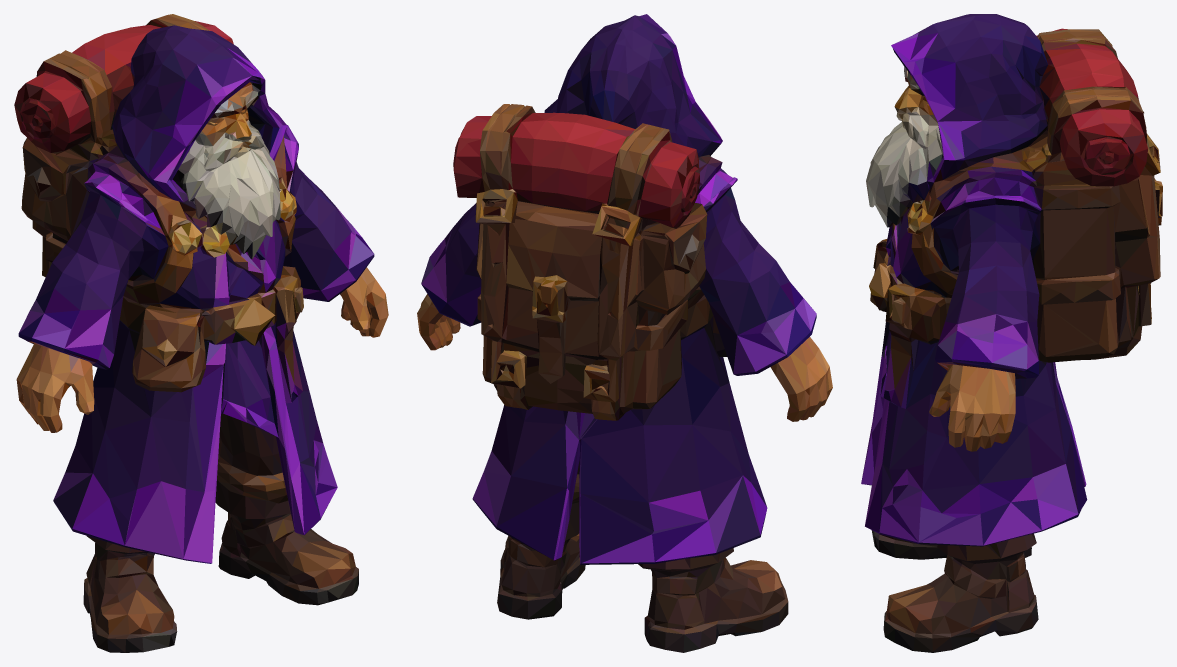
File: sergio.glb
3 views of the same model, side by side, from view 1: azimuth 30°, elevation 25°; view 2: azimuth 150°, elevation 25°; view 3: azimuth 270°, elevation 25° (orthographic). The views are drawn at different scales.
Visible parts, largest first — view 1: tripo_node_8d12253c-5041-4d39-9ba0-a0b1863c8ef2; view 2: tripo_node_8d12253c-5041-4d39-9ba0-a0b1863c8ef2; view 3: tripo_node_8d12253c-5041-4d39-9ba0-a0b1863c8ef2.
Boxes of the visible parts, <box> form: tripo_node_8d12253c-5041-4d39-9ba0-a0b1863c8ef2: <box>14,14,388,652</box>; tripo_node_8d12253c-5041-4d39-9ba0-a0b1863c8ef2: <box>417,14,832,652</box>; tripo_node_8d12253c-5041-4d39-9ba0-a0b1863c8ef2: <box>861,14,1162,652</box>.
Size of the model in its own units: 1.28 by 1.9 by 0.9094.
